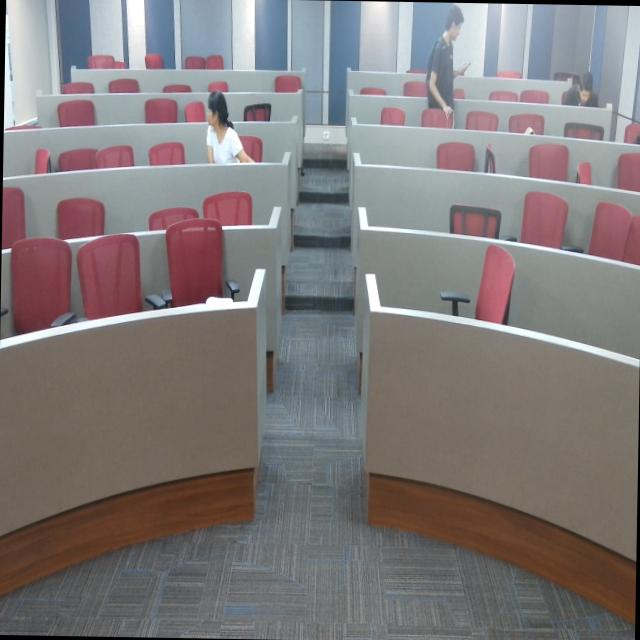cheating: (202, 84, 252, 181)
non-cheating: (548, 49, 610, 124)
